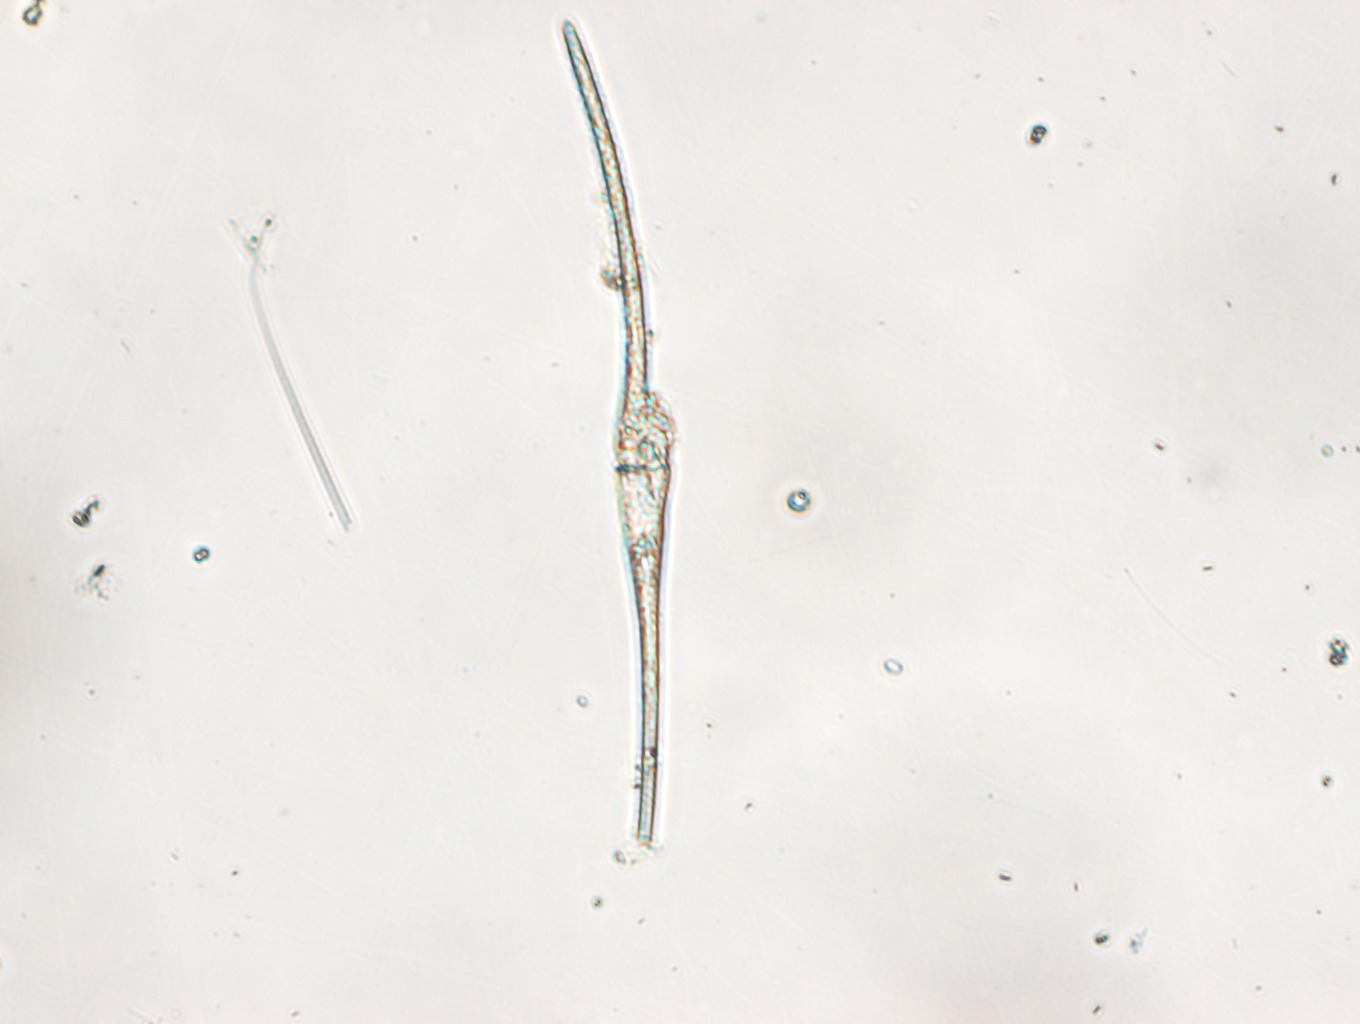ceratium fusus: (560, 16, 672, 852)
